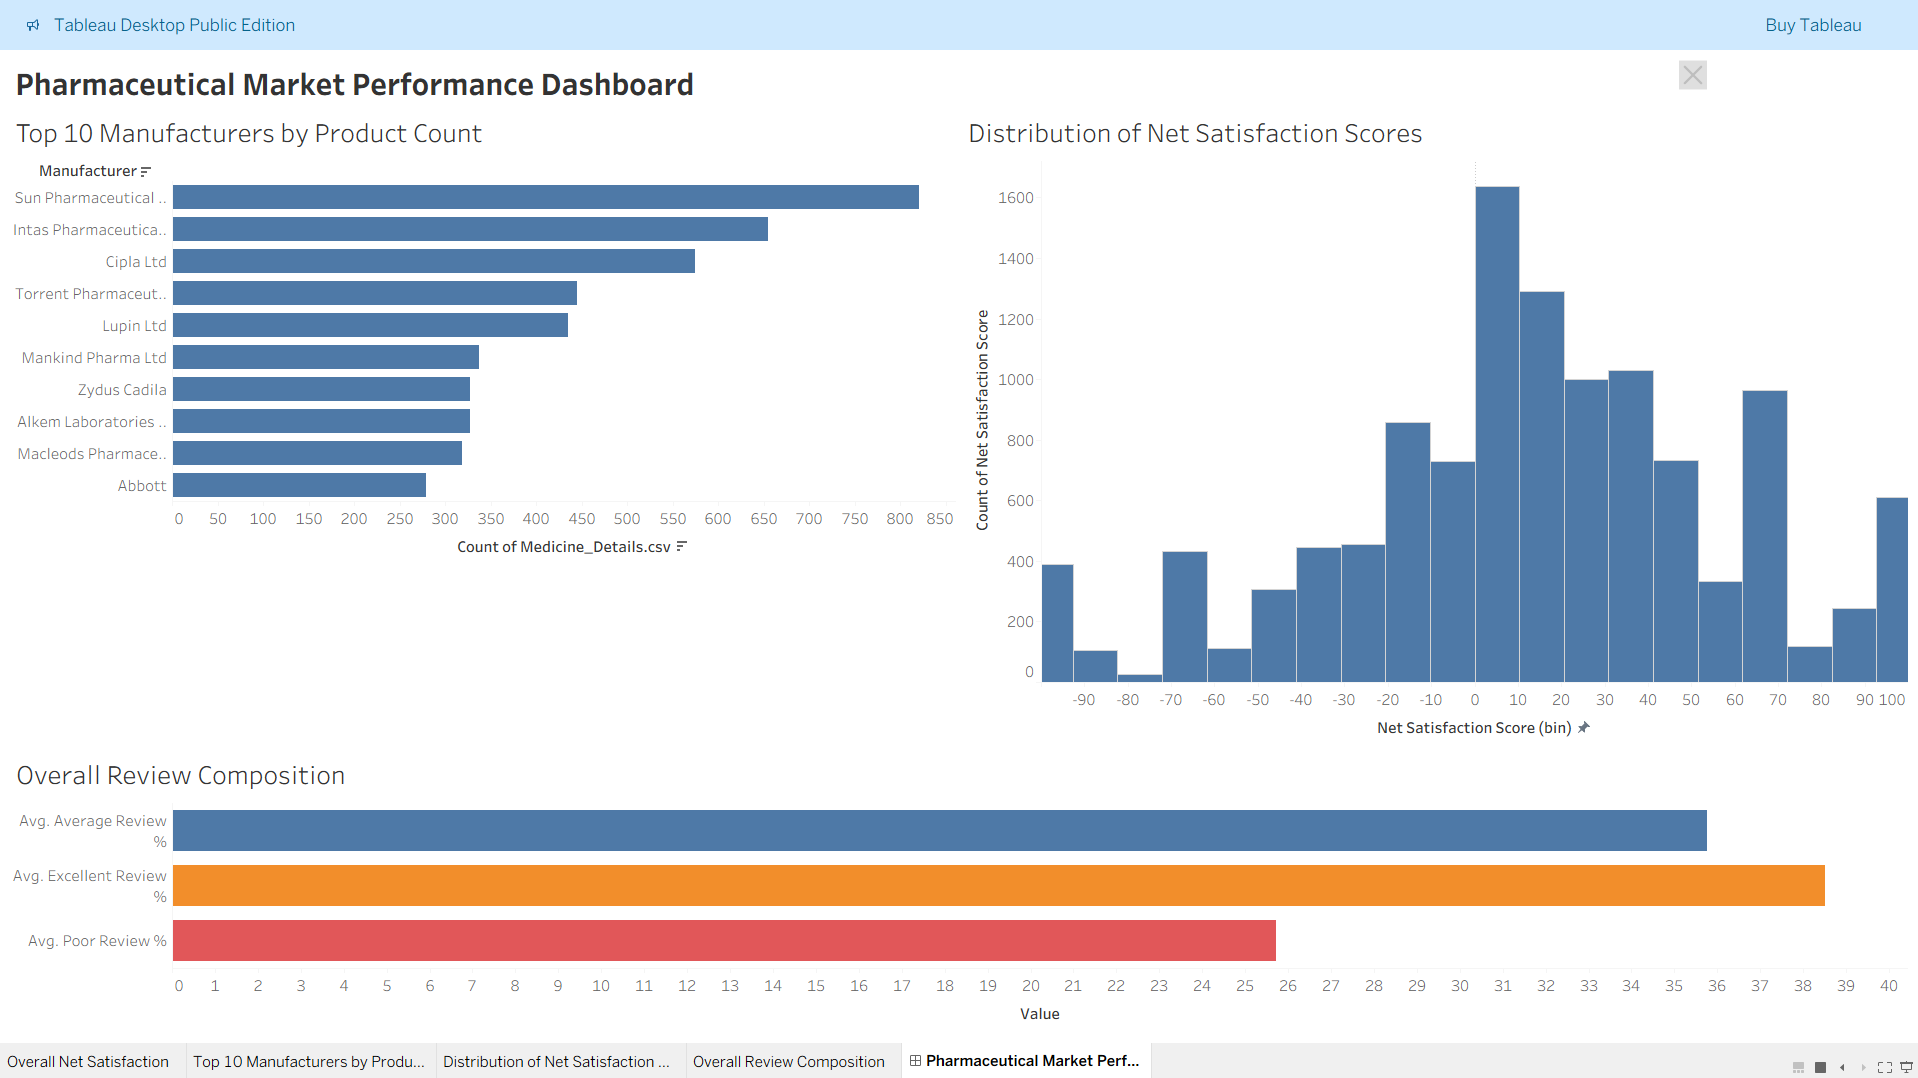

This screenshot's page, from the dashboard's own definition file:
{"tool":"tableau","page":{"name":"Pharmaceutical Market Performance Dashboard","canvas":[1000,1000],"units":"permille","ordinal":0},"visuals":[{"type":"title","box":[4.8,10,990.3,61.2]},{"type":"dashboard-object","box":[874.5,10,14.5,30]},{"type":"worksheet","title":"Top 10 Manufacturers by Product Count","mark":"Automatic","rows":["Manufacturer"],"cols":["Medicine_Details.csv_9676E920C0E24976BC756090A5CF54E2"],"box":[4.8,71.2,495.1,635.6]},{"type":"worksheet","title":"Distribution of Net Satisfaction Scores","mark":"Automatic","rows":["Calculation_1795810393781968896"],"cols":["Net Satisfaction Score (bin)"],"box":[500,71.2,495.2,635.6]},{"type":"worksheet","title":"Overall Review Composition","mark":"Automatic","box":[4.8,706.7,990.3,283.3]}]}

Visuals, with their boxes on the dashboard's canvas, which has no fixed pixel size, in thousandths of its width and height (x1, y1, x2, y2). These are canvas units, not pixel positions in the 1918x1078 screenshot, which may show the page scaled, cropped or inside an application window:
title: (x1=5, y1=10, x2=995, y2=71)
dashboard-object: (x1=874, y1=10, x2=889, y2=40)
"Top 10 Manufacturers by Product Count" worksheet: (x1=5, y1=71, x2=500, y2=707)
"Distribution of Net Satisfaction Scores" worksheet: (x1=500, y1=71, x2=995, y2=707)
"Overall Review Composition" worksheet: (x1=5, y1=707, x2=995, y2=990)
